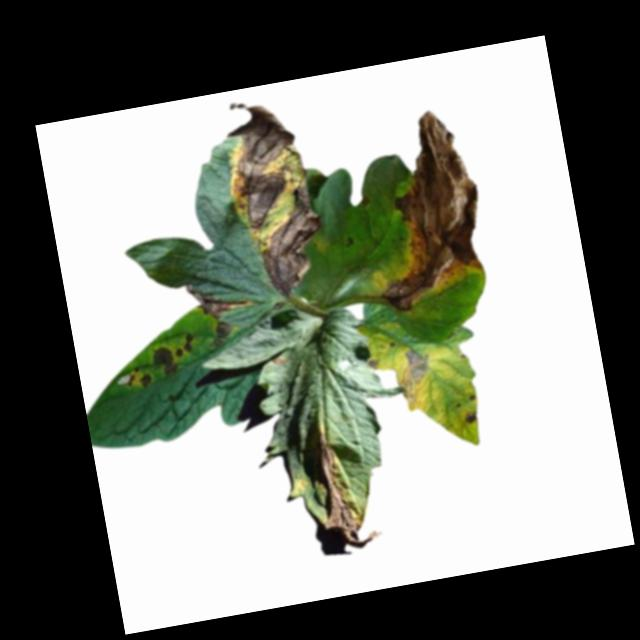Early_blight: (350, 103, 496, 313), (214, 87, 331, 304), (305, 421, 385, 553), (185, 274, 257, 350), (392, 344, 436, 401), (151, 343, 179, 377), (123, 365, 152, 390), (172, 331, 195, 359), (459, 406, 479, 426)
